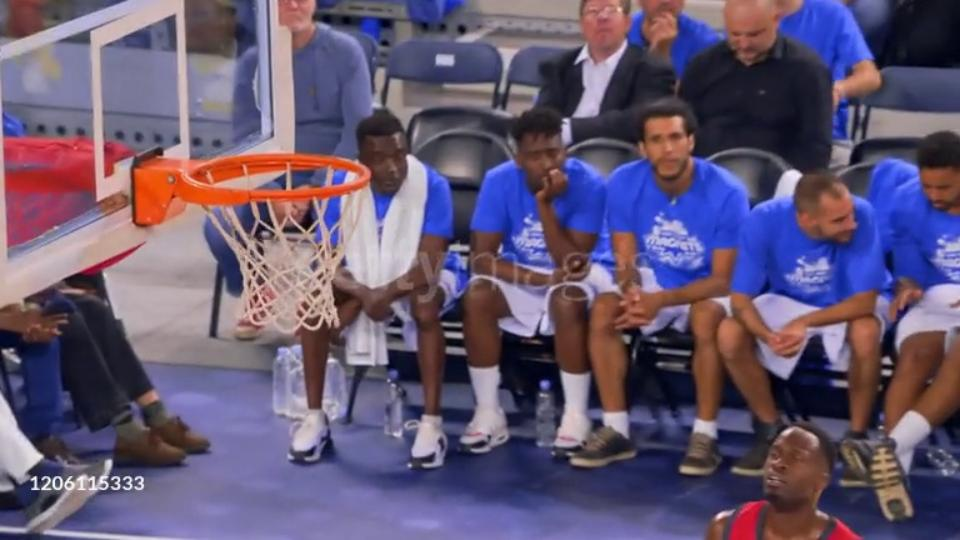hoop: (126, 153, 371, 224)
